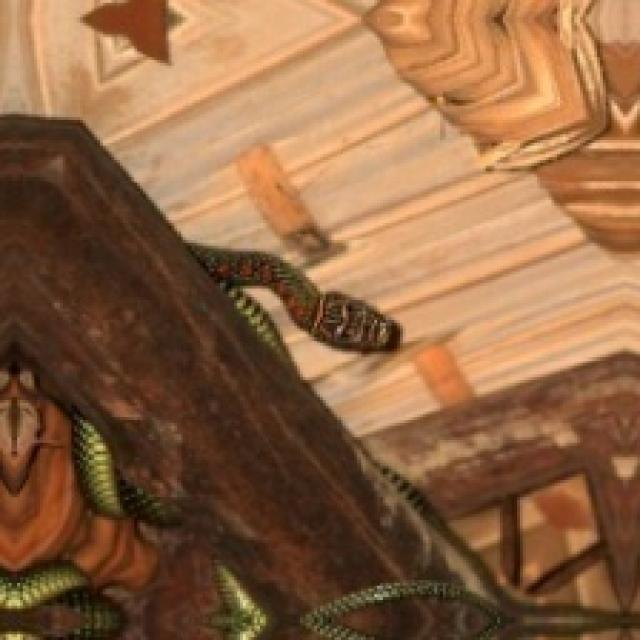paradise tree snake: (188, 244, 401, 353), (370, 457, 511, 584), (300, 580, 502, 640), (75, 416, 176, 524), (0, 565, 122, 640), (218, 565, 268, 639)
